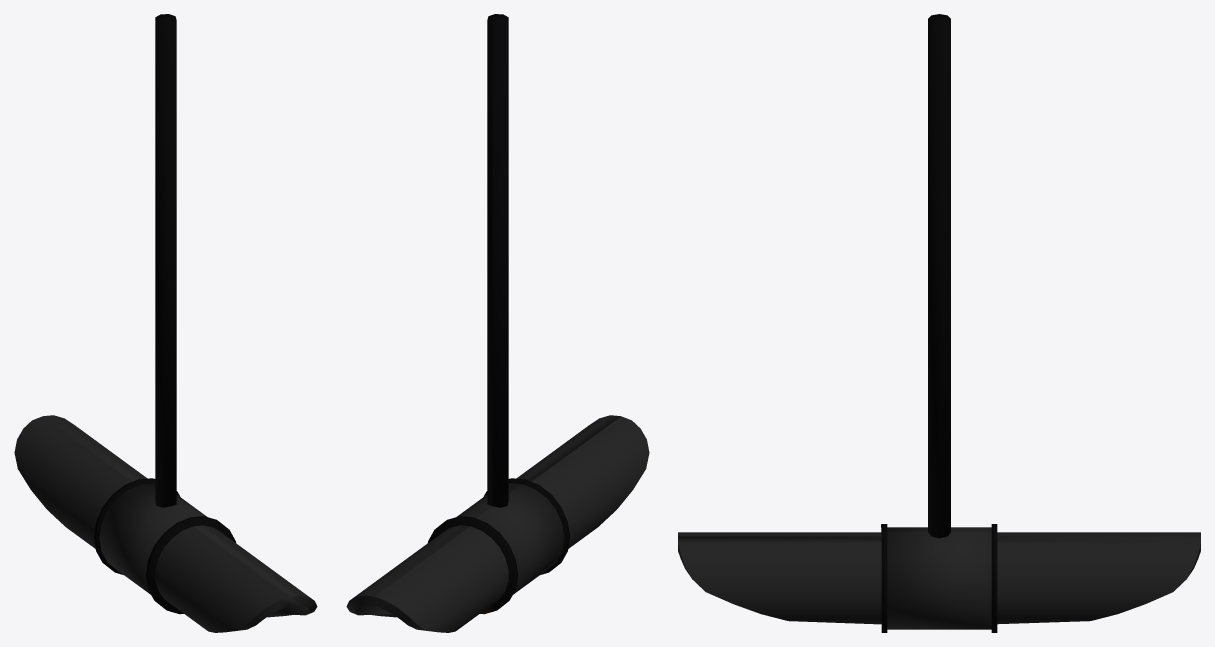
Rendered from Starting reaction indicator.obj.
3 views of the same model, side by side, from view 1: azimuth 30°, elevation 25°; view 2: azimuth 150°, elevation 25°; view 3: azimuth 270°, elevation 25° (orthographic). The views are drawn at different scales.
Visible parts, largest first — view 1: obj1; view 2: obj1; view 3: obj1.
Part boxes in pixels (box(x1,y1,x2,y2)): obj1: box(14, 14, 317, 632); obj1: box(346, 14, 649, 632); obj1: box(678, 14, 1200, 632).
Size of the model in its own units: 0.1709 by 1.05 by 0.8137.
Materials: 3 (1 with a texture image).
